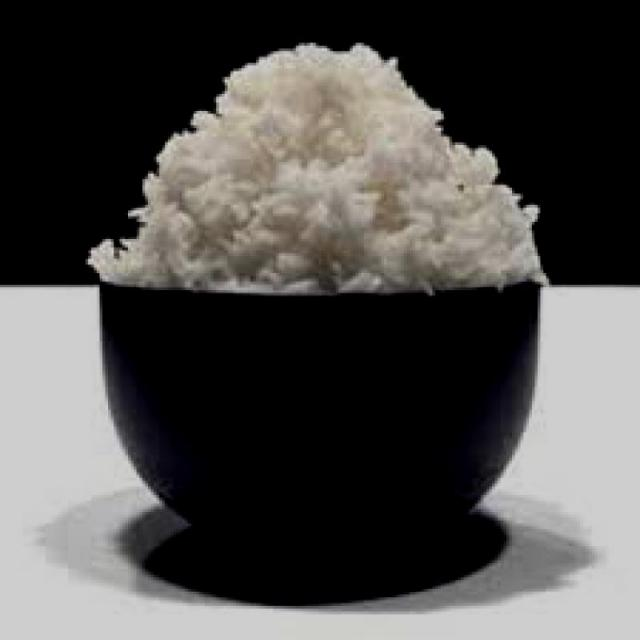Rice: (92, 39, 549, 296)
